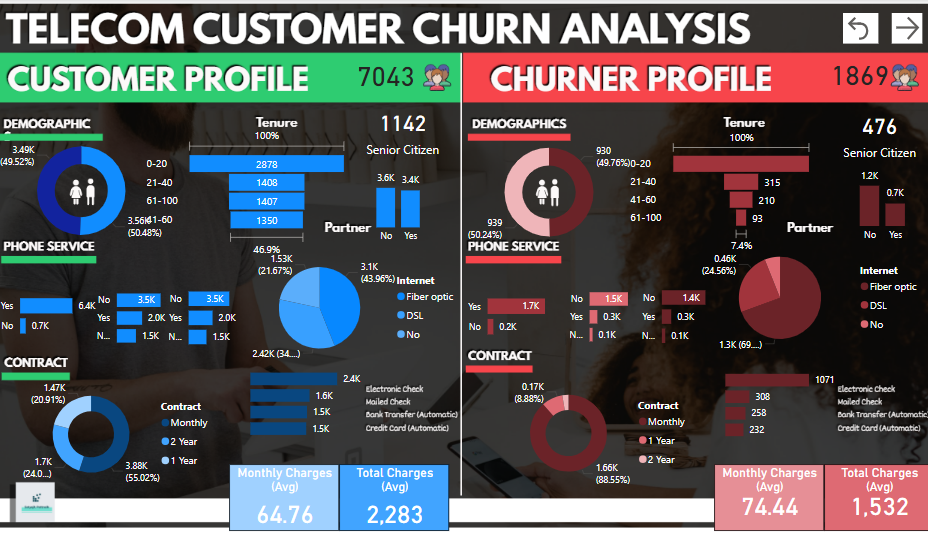

Layout of this report page (visuals, bound fields, positions):
{"tool":"powerbi","page":{"name":"Summary","canvas":[1280,720],"ordinal":1},"visuals":[{"type":"card","fields":{"Values":["Min(Churned_Data.Churn)"]},"box":[1089,83.6,161.2,54.9],"z":0},{"type":"card","fields":{"Values":["Min(Telco-Churn-Analysis.Churn)"]},"box":[456.5,84.7,161.6,54.9],"z":1000},{"type":"donutChart","fields":{"Category":["Telco-Churn-Analysis.gender"],"Y":["CountNonNull(Telco-Churn-Analysis.gender)"]},"box":[17.3,169.4,229,174.1],"z":2000},{"type":"donutChart","fields":{"Category":["Churned_Data.gender"],"Y":["CountNonNull(Churned_Data.gender)"]},"box":[639.9,172.2,229.6,174.6],"z":3000},{"type":"funnel","fields":{"Category":["Telco-Churn-Analysis.Tenure_Bin"],"Y":["CountNonNull(Telco-Churn-Analysis.Tenure_Bin)"]},"box":[212.9,169.1,278,180.4],"z":4000},{"type":"funnel","fields":{"Category":["Churned_Data.Tenure_Bin"],"Y":["CountNonNull(Churned_Data.Tenure_Bin)"]},"box":[858.5,169.6,253.1,174.3],"z":5000},{"type":"card","fields":{"Values":["Sum(Telco-Churn-Analysis.SeniorCitizen)"]},"box":[505.1,138,109.8,76.9],"z":6000},{"type":"card","fields":{"Values":["Sum(Churned_Data.SeniorCitizen)"]},"box":[1140.4,141.2,111.4,78.4],"z":7000},{"type":"clusteredColumnChart","fields":{"Category":["Telco-Churn-Analysis.Partner"],"Y":["CountNonNull(Telco-Churn-Analysis.Partner)"]},"box":[489.4,219.6,128.6,116.1],"z":8000},{"type":"clusteredColumnChart","fields":{"Category":["Churned_Data.Partner"],"Y":["CountNonNull(Churned_Data.Partner)"]},"box":[1132.5,214.9,133.3,119.2],"z":9000},{"type":"clusteredBarChart","fields":{"Category":["Telco-Churn-Analysis.PhoneService"],"Y":["CountNonNull(Telco-Churn-Analysis.PhoneService)"]},"box":[17.3,363.9,139.6,114.5],"z":10000},{"type":"clusteredBarChart","fields":{"Category":["Churned_Data.PhoneService"],"Y":["CountNonNull(Churned_Data.PhoneService)"]},"box":[640,363.9,141.2,116.1],"z":11000},{"type":"clusteredBarChart","fields":{"Category":["Telco-Churn-Analysis.OnlineSecurity"],"Y":["CountNonNull(Telco-Churn-Analysis.OnlineSecurity)"]},"box":[131.8,371.8,134.9,103.5],"z":12000},{"type":"clusteredBarChart","fields":{"Category":["Churned_Data.OnlineSecurity"],"Y":["CountNonNull(Churned_Data.OnlineSecurity)"]},"box":[765.5,370.2,125.5,103.5],"z":13000},{"type":"clusteredBarChart","fields":{"Category":["Telco-Churn-Analysis.TechSupport"],"Y":["CountNonNull(Telco-Churn-Analysis.TechSupport)"]},"box":[229,368.6,133.3,109.8],"z":14000},{"type":"clusteredBarChart","fields":{"Category":["Churned_Data.TechSupport"],"Y":["CountNonNull(Churned_Data.TechSupport)"]},"box":[858,367.1,136.5,109.8],"z":15000},{"type":"pieChart","fields":{"Y":["CountNonNull(Telco-Churn-Analysis.InternetService)"],"Category":["Telco-Churn-Analysis.InternetService"]},"box":[342,334.1,299.6,160],"z":16000},{"type":"pieChart","fields":{"Category":["Churned_Data.InternetService"],"Y":["CountNonNull(Churned_Data.InternetService)"]},"box":[952.2,320,307.5,160],"z":17000},{"type":"donutChart","fields":{"Category":["Telco-Churn-Analysis.Contract"],"Y":["CountNonNull(Telco-Churn-Analysis.Contract)"]},"box":[47.1,505.1,268.2,153.7],"z":18000},{"type":"donutChart","fields":{"Category":["Churned_Data.Contract"],"Y":["CountNonNull(Churned_Data.Contract)"]},"box":[683.8,503.5,268,154.1],"z":19000},{"type":"clusteredBarChart","fields":{"Category":["Telco-Churn-Analysis.PaymentMethod"],"Y":["CountNonNull(Telco-Churn-Analysis.PaymentMethod)"]},"box":[351.4,486.3,161.6,102],"z":20000},{"type":"clusteredBarChart","fields":{"Category":["Churned_Data.PaymentMethod"],"Y":["CountNonNull(Churned_Data.PaymentMethod)"]},"box":[985.1,487.8,160,102],"z":21000},{"type":"card","title":"Monthly Charges (Avg)","fields":{"Values":["Sum(Telco-Churn-Analysis.MonthlyCharges)"]},"box":[328.1,622.5,146.5,88.9],"z":22000},{"type":"card","title":"Monthly Charges (Avg)","fields":{"Values":["Sum(Churned_Data.MonthlyCharges)"]},"box":[974.4,622.5,146.5,88.9],"z":23000},{"type":"card","title":"Total Charges (Avg)","fields":{"Values":["Sum(Churned_Data.TotalCharges)"]},"box":[1120.9,622.5,146.5,88.9],"z":24000},{"type":"card","title":"Total Charges (Avg)","fields":{"Values":["Sum(Telco-Churn-Analysis.TotalCharges)"]},"box":[474.7,622.5,146.5,88.9],"z":25000},{"type":"actionButton","box":[1211,20.4,40.8,40.8],"z":26000},{"type":"actionButton","box":[1146.7,20.4,47.1,40.8],"z":27000}]}

Visuals, with their boxes in screenshot pixels (x1, y1, x2, y2), scaled from the page's 1280x720 canvas onto the 928x533 screenshot:
card - Min(Churned_Data.Churn): {"left": 790, "top": 62, "right": 906, "bottom": 103}
card - Min(Telco-Churn-Analysis.Churn): {"left": 331, "top": 63, "right": 448, "bottom": 103}
donutChart - Telco-Churn-Analysis.gender x CountNonNull(Telco-Churn-Analysis.gender): {"left": 13, "top": 125, "right": 179, "bottom": 254}
donutChart - Churned_Data.gender x CountNonNull(Churned_Data.gender): {"left": 464, "top": 127, "right": 630, "bottom": 257}
funnel - Telco-Churn-Analysis.Tenure_Bin x CountNonNull(Telco-Churn-Analysis.Tenure_Bin): {"left": 154, "top": 125, "right": 356, "bottom": 259}
funnel - Churned_Data.Tenure_Bin x CountNonNull(Churned_Data.Tenure_Bin): {"left": 622, "top": 126, "right": 806, "bottom": 255}
card - Sum(Telco-Churn-Analysis.SeniorCitizen): {"left": 366, "top": 102, "right": 446, "bottom": 159}
card - Sum(Churned_Data.SeniorCitizen): {"left": 827, "top": 105, "right": 908, "bottom": 163}
clusteredColumnChart - Telco-Churn-Analysis.Partner x CountNonNull(Telco-Churn-Analysis.Partner): {"left": 355, "top": 163, "right": 448, "bottom": 249}
clusteredColumnChart - Churned_Data.Partner x CountNonNull(Churned_Data.Partner): {"left": 821, "top": 159, "right": 918, "bottom": 247}
clusteredBarChart - Telco-Churn-Analysis.PhoneService x CountNonNull(Telco-Churn-Analysis.PhoneService): {"left": 13, "top": 269, "right": 114, "bottom": 354}
clusteredBarChart - Churned_Data.PhoneService x CountNonNull(Churned_Data.PhoneService): {"left": 464, "top": 269, "right": 566, "bottom": 355}
clusteredBarChart - Telco-Churn-Analysis.OnlineSecurity x CountNonNull(Telco-Churn-Analysis.OnlineSecurity): {"left": 96, "top": 275, "right": 193, "bottom": 352}
clusteredBarChart - Churned_Data.OnlineSecurity x CountNonNull(Churned_Data.OnlineSecurity): {"left": 555, "top": 274, "right": 646, "bottom": 351}
clusteredBarChart - Telco-Churn-Analysis.TechSupport x CountNonNull(Telco-Churn-Analysis.TechSupport): {"left": 166, "top": 273, "right": 263, "bottom": 354}
clusteredBarChart - Churned_Data.TechSupport x CountNonNull(Churned_Data.TechSupport): {"left": 622, "top": 272, "right": 721, "bottom": 353}
pieChart - CountNonNull(Telco-Churn-Analysis.InternetService) x Telco-Churn-Analysis.InternetService: {"left": 248, "top": 247, "right": 465, "bottom": 366}
pieChart - Churned_Data.InternetService x CountNonNull(Churned_Data.InternetService): {"left": 690, "top": 237, "right": 913, "bottom": 355}
donutChart - Telco-Churn-Analysis.Contract x CountNonNull(Telco-Churn-Analysis.Contract): {"left": 34, "top": 374, "right": 229, "bottom": 488}
donutChart - Churned_Data.Contract x CountNonNull(Churned_Data.Contract): {"left": 496, "top": 373, "right": 690, "bottom": 487}
clusteredBarChart - Telco-Churn-Analysis.PaymentMethod x CountNonNull(Telco-Churn-Analysis.PaymentMethod): {"left": 255, "top": 360, "right": 372, "bottom": 436}
clusteredBarChart - Churned_Data.PaymentMethod x CountNonNull(Churned_Data.PaymentMethod): {"left": 714, "top": 361, "right": 830, "bottom": 437}
"Monthly Charges (Avg)" card: {"left": 238, "top": 461, "right": 344, "bottom": 527}
"Monthly Charges (Avg)" card: {"left": 706, "top": 461, "right": 813, "bottom": 527}
"Total Charges (Avg)" card: {"left": 813, "top": 461, "right": 919, "bottom": 527}
"Total Charges (Avg)" card: {"left": 344, "top": 461, "right": 450, "bottom": 527}
actionButton: {"left": 878, "top": 15, "right": 908, "bottom": 45}
actionButton: {"left": 831, "top": 15, "right": 866, "bottom": 45}
